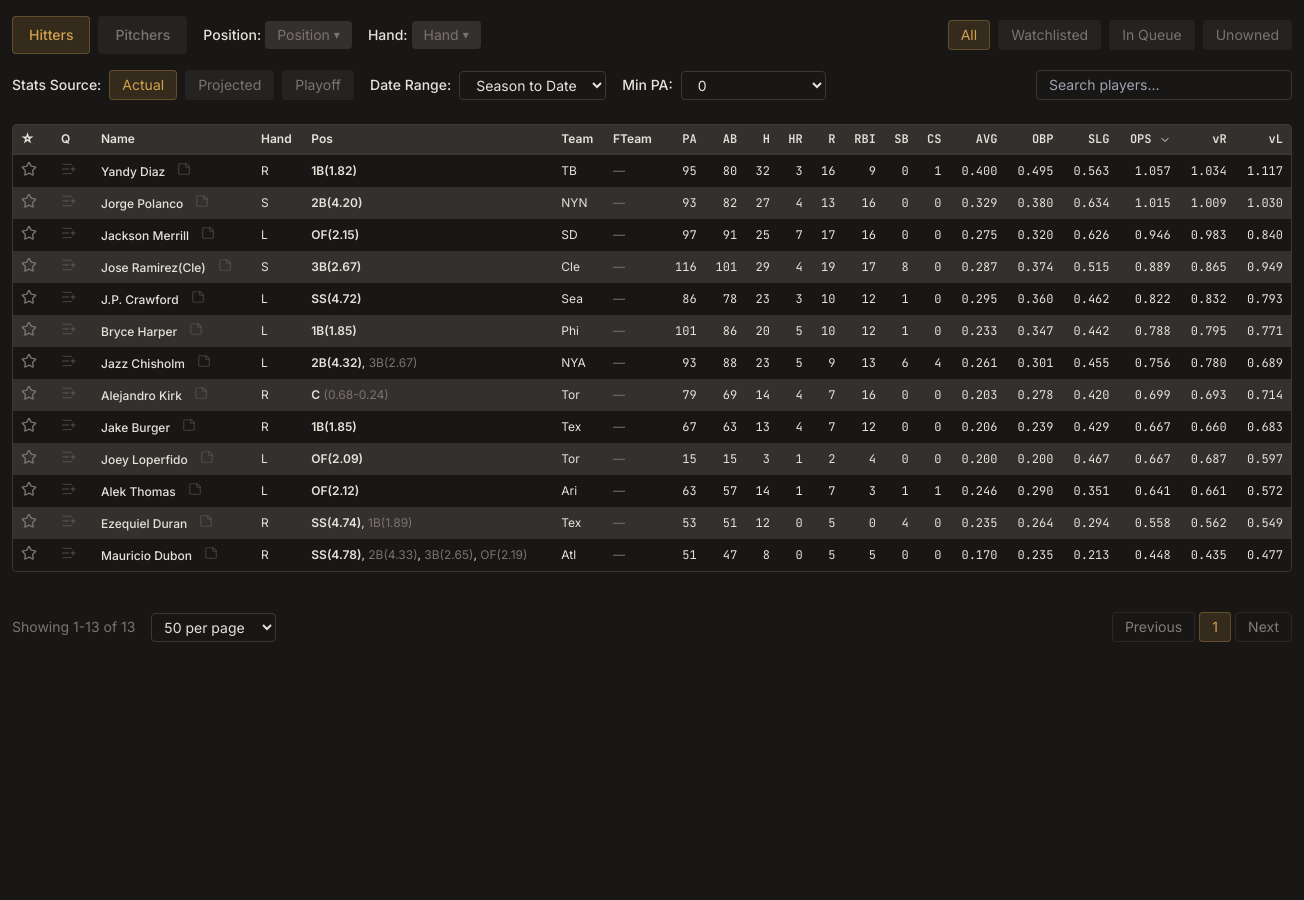
Test: PlayersTable › Min PA/IP filter hides when viewing projected stats
This screenshot has width=1304, height=900.
Switch to Projected mode
Click the button "Projected".
click(230, 85)  # box [185, 70, 274, 100]
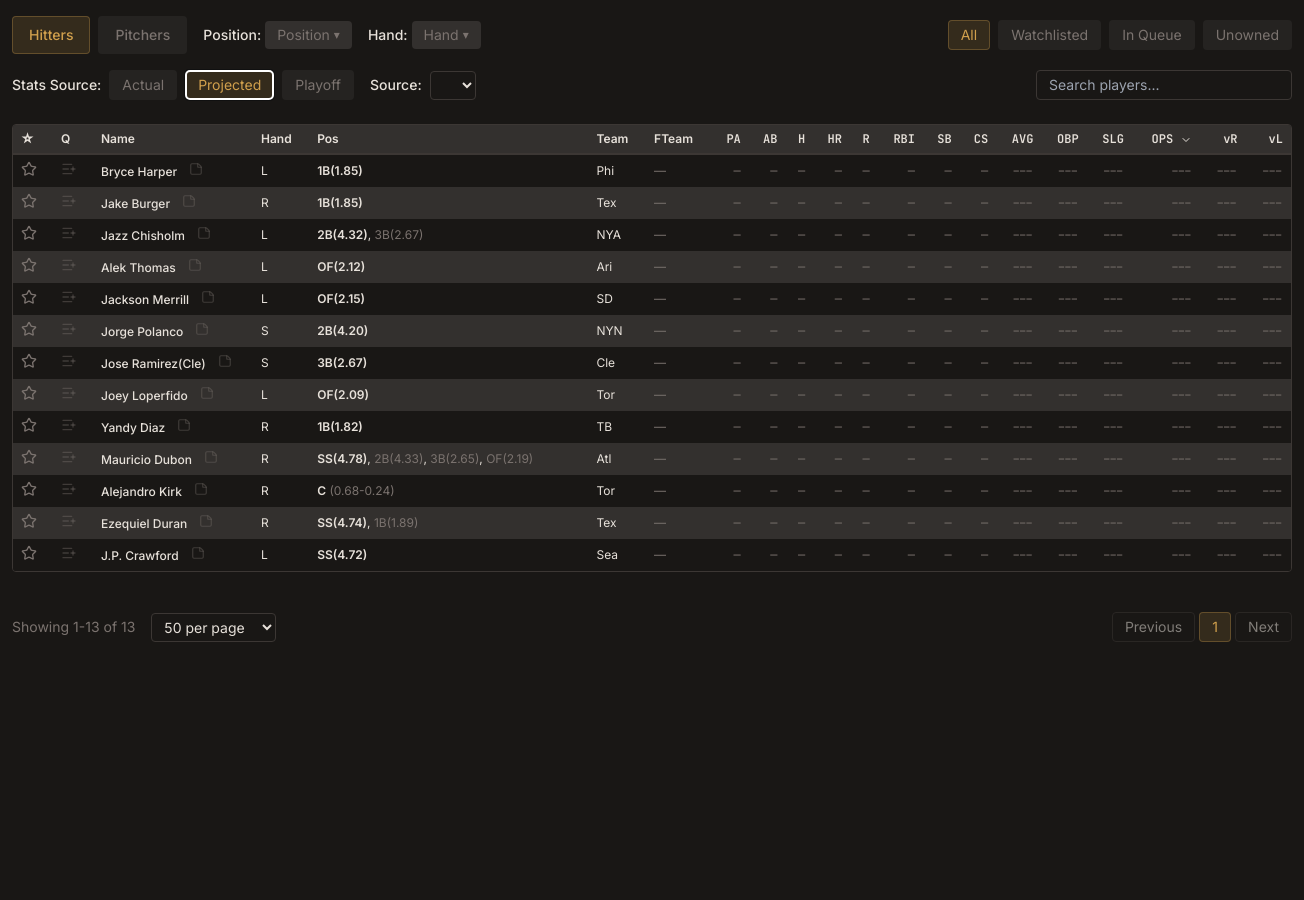
Now the text "Min PA:" is gone
